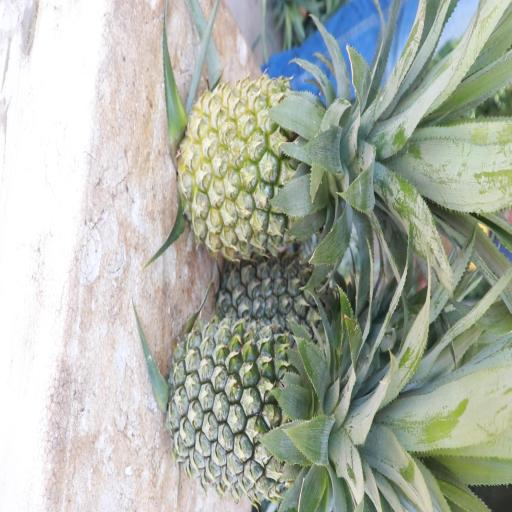Pineapple - v8 v1: (180, 73, 367, 255)
